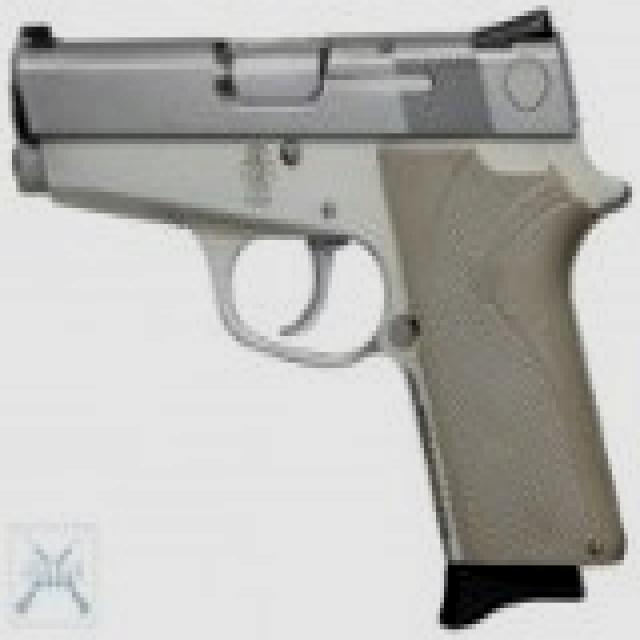pistol: (12, 6, 632, 614)
